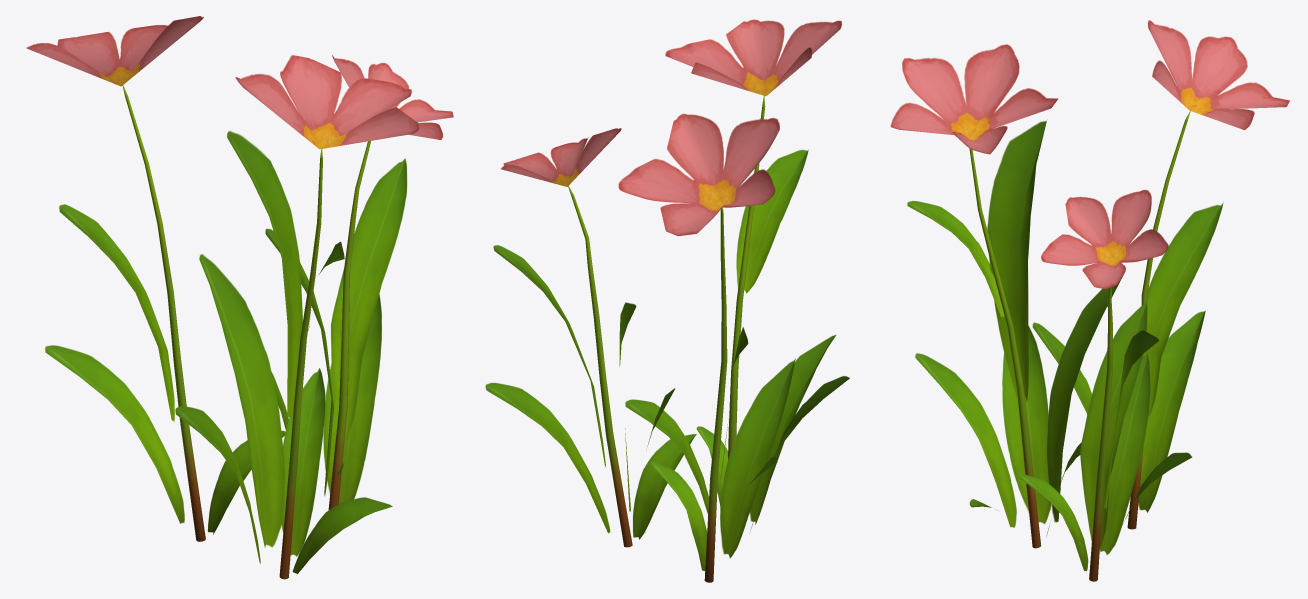
File: flower-group-1.glb
3 renders of one model, left to right at view 1: azimuth 30°, elevation 25°; view 2: azimuth 150°, elevation 25°; view 3: azimuth 270°, elevation 25°, orthographic. The views are drawn at different scales.
Visible parts, largest first — view 1: Flower_3_Group; view 2: Flower_3_Group; view 3: Flower_3_Group.
Boxes of the visible parts, left/top/right/bottom form: Flower_3_Group: left=26, top=16, right=453, bottom=579; Flower_3_Group: left=485, top=19, right=849, bottom=582; Flower_3_Group: left=890, top=20, right=1289, bottom=581.
Size of the model in its own units: 1.49 by 2.05 by 1.59.
2 materials, 2 textured.
